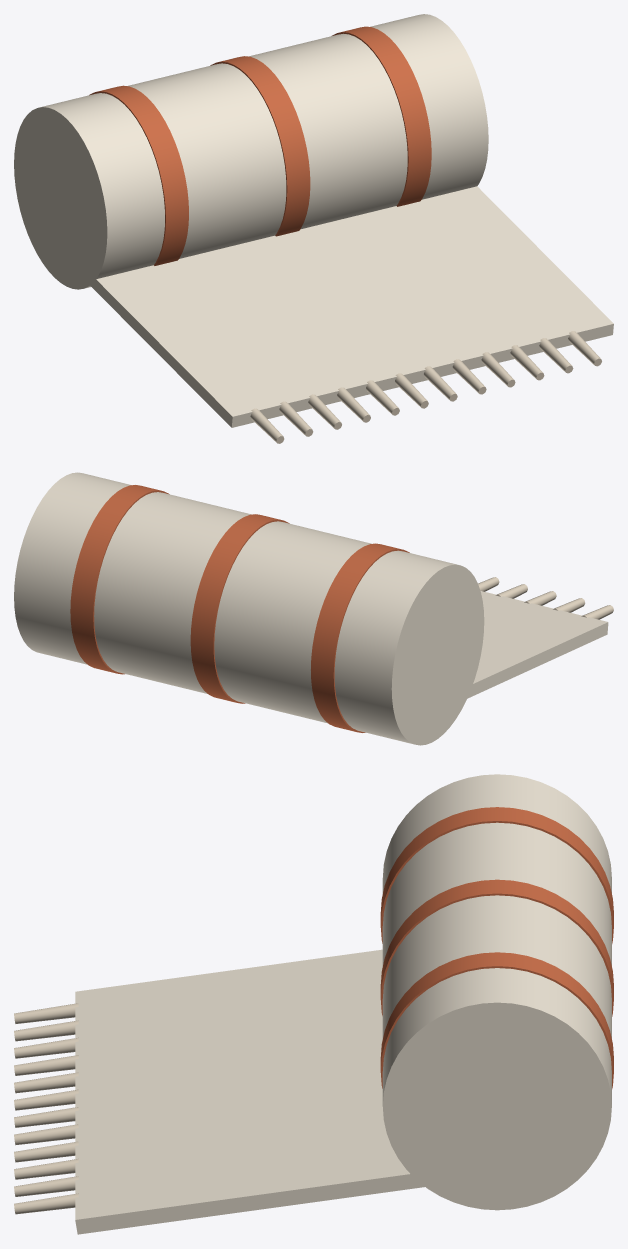
The model's file is table_runner.glb.
3 views of the same model, one above another, from view 1: azimuth 30°, elevation 25°; view 2: azimuth 150°, elevation 25°; view 3: azimuth 270°, elevation 25° (orthographic). The views are drawn at different scales.
Bounding box in the file's own units: 1.32 × 0.6408 × 1.47.
